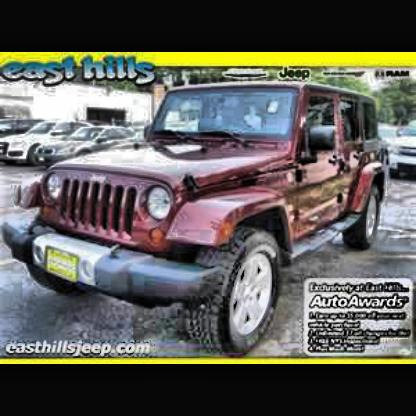Jeep Wrangler SUV 2012: (6, 85, 388, 358)
